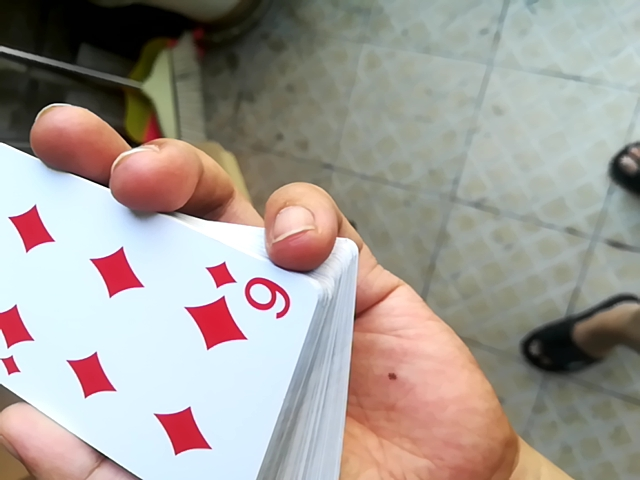fk 6: (1, 132, 344, 480)
